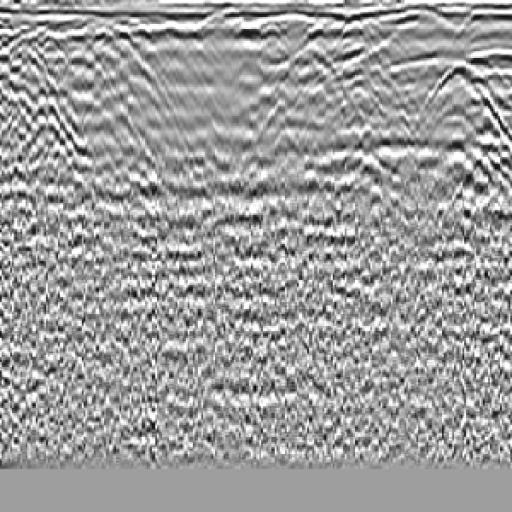non-metallic: (379, 50, 512, 244)
